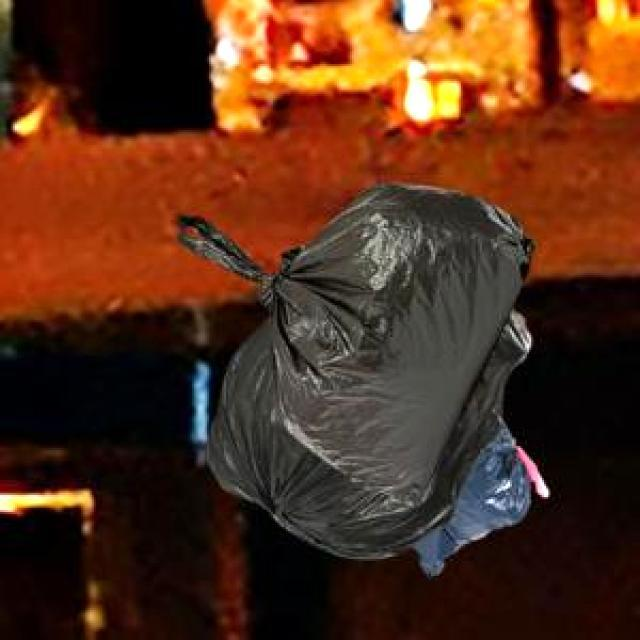Garbage_Bag: (174, 180, 530, 496), (204, 306, 528, 556), (410, 417, 546, 575)
